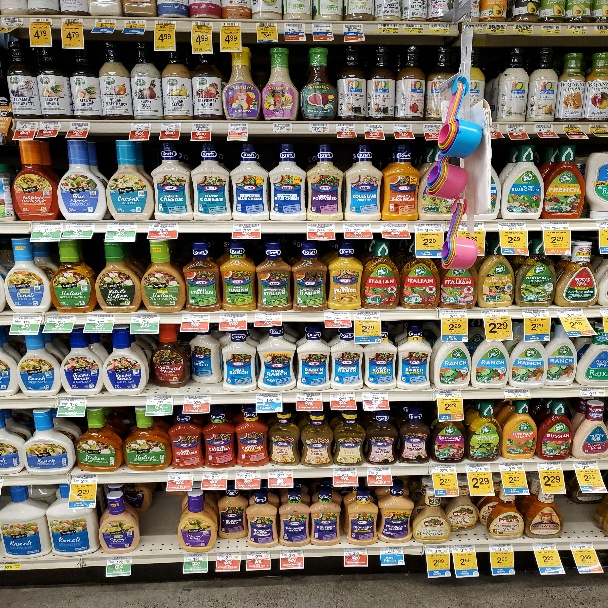All PRICE TAGS: (31, 221, 62, 232), (440, 309, 468, 320), (32, 221, 62, 231), (66, 222, 95, 232), (66, 222, 94, 232), (578, 387, 606, 397), (107, 222, 136, 231), (540, 221, 569, 230), (498, 222, 527, 231), (87, 314, 115, 323), (47, 314, 75, 323), (150, 222, 178, 231), (435, 389, 463, 398), (536, 461, 563, 470), (504, 389, 531, 398), (1, 16, 23, 27), (12, 316, 42, 324), (71, 474, 97, 483), (362, 391, 388, 400), (60, 397, 86, 406), (354, 311, 380, 320), (499, 462, 525, 471), (466, 463, 492, 472), (521, 309, 550, 317), (93, 18, 116, 28), (202, 470, 227, 479), (131, 314, 159, 322), (414, 223, 442, 231), (344, 223, 372, 231), (233, 223, 261, 231), (123, 19, 145, 29), (184, 552, 208, 561), (334, 467, 358, 476), (184, 395, 211, 403), (381, 223, 408, 231), (307, 223, 334, 231), (480, 310, 510, 317), (429, 23, 450, 33), (569, 24, 588, 35), (167, 472, 193, 480), (147, 396, 173, 404), (324, 312, 350, 320), (573, 461, 599, 469), (431, 464, 457, 472), (217, 551, 240, 560), (570, 541, 593, 550), (107, 556, 132, 564), (330, 392, 355, 400), (257, 393, 282, 401), (221, 313, 246, 321), (425, 545, 450, 553), (451, 544, 476, 552), (532, 542, 557, 550), (486, 24, 506, 34), (182, 314, 210, 321), (367, 467, 391, 475), (269, 469, 293, 477), (235, 470, 259, 478), (297, 392, 321, 400), (588, 124, 607, 134), (541, 25, 560, 35), (0, 561, 21, 570), (557, 309, 584, 316), (284, 23, 305, 32), (155, 20, 176, 29), (221, 22, 242, 31), (380, 546, 403, 554), (344, 547, 367, 555), (280, 549, 303, 557), (247, 551, 270, 559), (29, 18, 52, 26), (255, 313, 281, 320), (506, 124, 526, 133), (379, 24, 399, 33), (404, 24, 424, 33), (69, 121, 89, 130), (61, 19, 83, 27), (514, 25, 533, 34), (193, 21, 212, 30), (257, 22, 276, 31), (313, 23, 332, 32), (344, 23, 363, 32), (192, 122, 211, 131), (489, 544, 513, 551), (562, 125, 582, 133), (534, 124, 554, 132), (17, 121, 37, 129), (228, 123, 248, 131), (41, 121, 60, 129), (161, 122, 180, 130), (273, 123, 292, 131), (336, 123, 355, 131), (423, 124, 441, 132), (593, 25, 607, 35), (131, 123, 150, 130), (364, 124, 383, 131), (392, 124, 411, 131), (309, 124, 327, 131), (595, 221, 607, 229), (472, 24, 483, 32), (491, 125, 499, 132)
